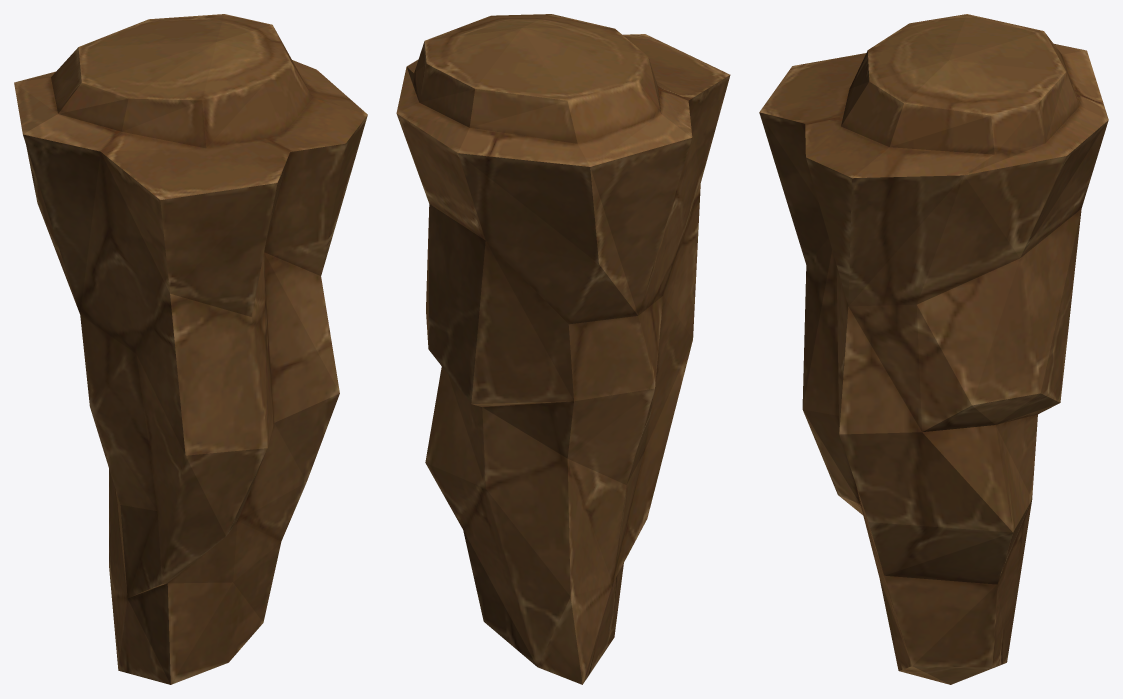
File: shakian_object_dimension_rock01_01.FBX
3 views of the same model, side by side, from view 1: azimuth 30°, elevation 25°; view 2: azimuth 150°, elevation 25°; view 3: azimuth 270°, elevation 25° (orthographic). The views are drawn at different scales.
Visible parts, largest first — view 1: shakian_object_dimension_rock01_01; view 2: shakian_object_dimension_rock01_01; view 3: shakian_object_dimension_rock01_01.
Part boxes in pixels (x1,y1,x2,y2): shakian_object_dimension_rock01_01: (14,14,367,684); shakian_object_dimension_rock01_01: (396,14,730,684); shakian_object_dimension_rock01_01: (759,14,1108,684).
Size of the model in its own units: 5.69 by 11.69 by 5.78.
